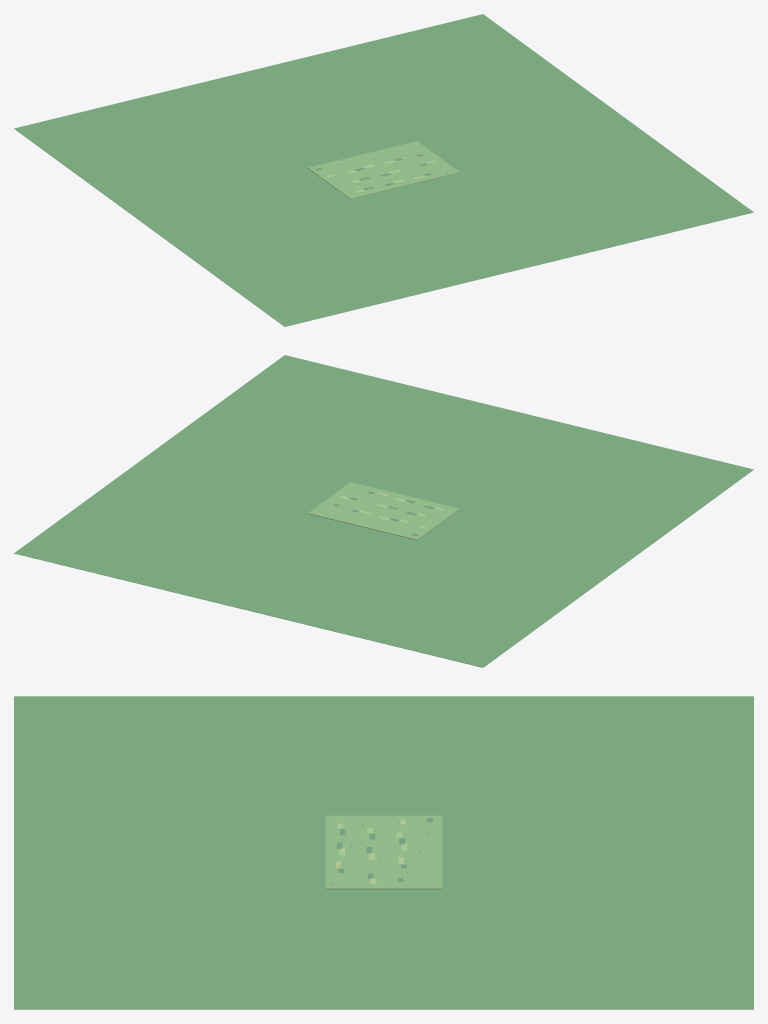
The model's file is suelo_jardin.glb.
3 views of the same model, one above another, from view 1: azimuth 30°, elevation 25°; view 2: azimuth 150°, elevation 25°; view 3: azimuth 270°, elevation 25° (orthographic). The views are drawn at different scales.
Visible parts, largest first — view 1: suelo_jardin; view 2: suelo_jardin; view 3: suelo_jardin.
Part boxes in pixels (x1,y1,x2,y2): suelo_jardin: (14,14,753,326); suelo_jardin: (14,355,753,667); suelo_jardin: (14,696,753,1009).
Bounding box in the file's own units: 90 × 1.25 × 90.
